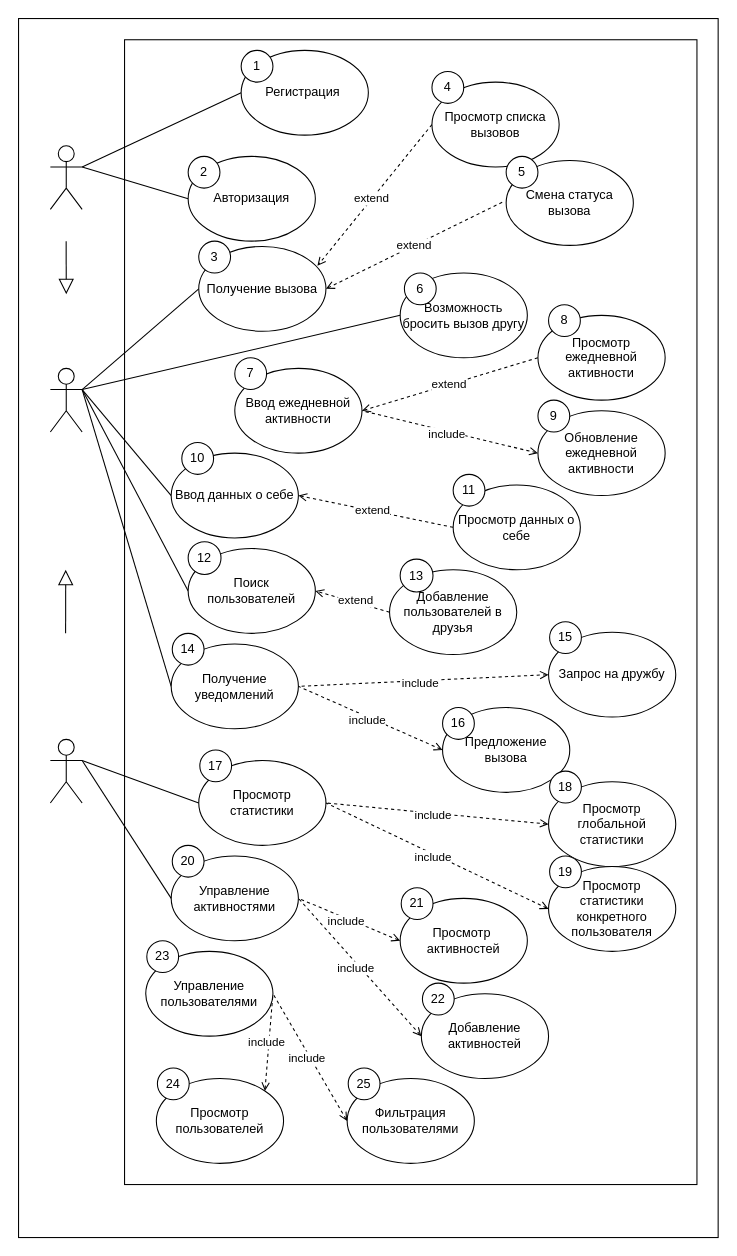
Image size: 737x1256. Some labels were removed from this diagram. The centre of each missing label's shape, as x and y in pixels:
Администратор: (x=65, y=770)
Гость: (x=65, y=177)
Пользователь: (x=65, y=399)
